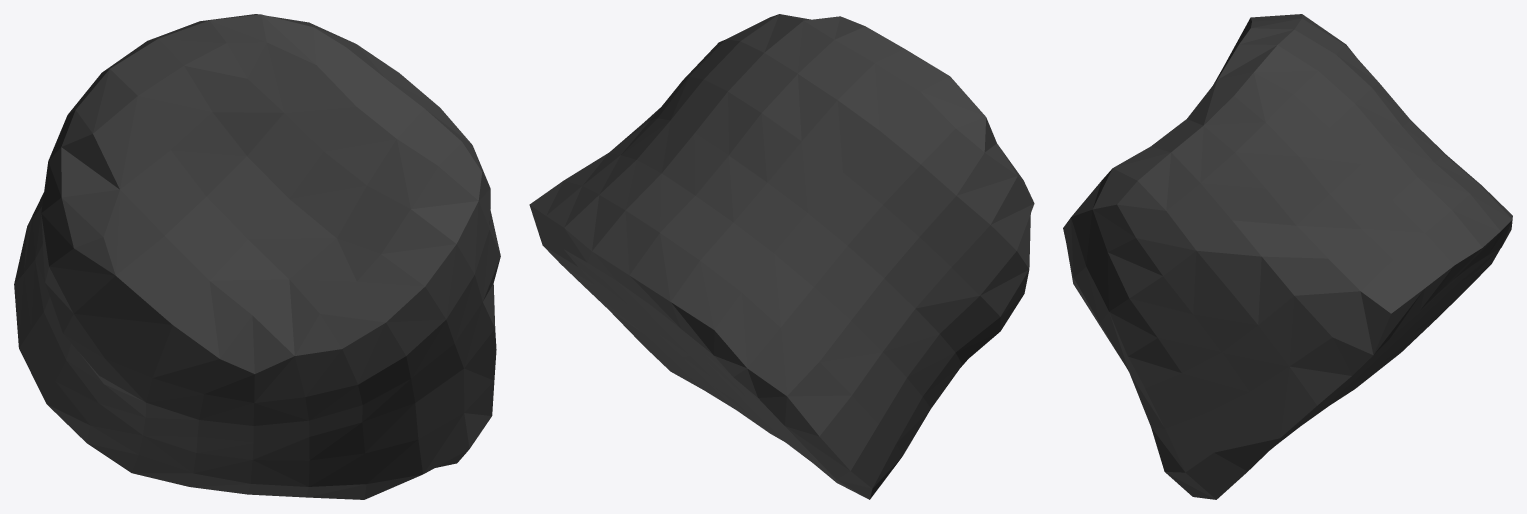
The model's file is BRACHIOCEPHALIC_TRUNK.glb.
3 renders of one model, left to right at view 1: azimuth 30°, elevation 25°; view 2: azimuth 150°, elevation 25°; view 3: azimuth 270°, elevation 25°, orthographic. The views are drawn at different scales.
Parts seen in each view (by area): view 1: BRACHIOCEPHALIC_TRUNK; view 2: BRACHIOCEPHALIC_TRUNK; view 3: BRACHIOCEPHALIC_TRUNK.
Part boxes in pixels (box(x1,y1,x2,y2)): BRACHIOCEPHALIC_TRUNK: box(14, 14, 500, 499); BRACHIOCEPHALIC_TRUNK: box(529, 14, 1034, 499); BRACHIOCEPHALIC_TRUNK: box(1063, 14, 1512, 499).
Bounding box in the file's own units: 15.15 × 15.63 × 15.38.
Materials: 1 (1 with a texture image).
